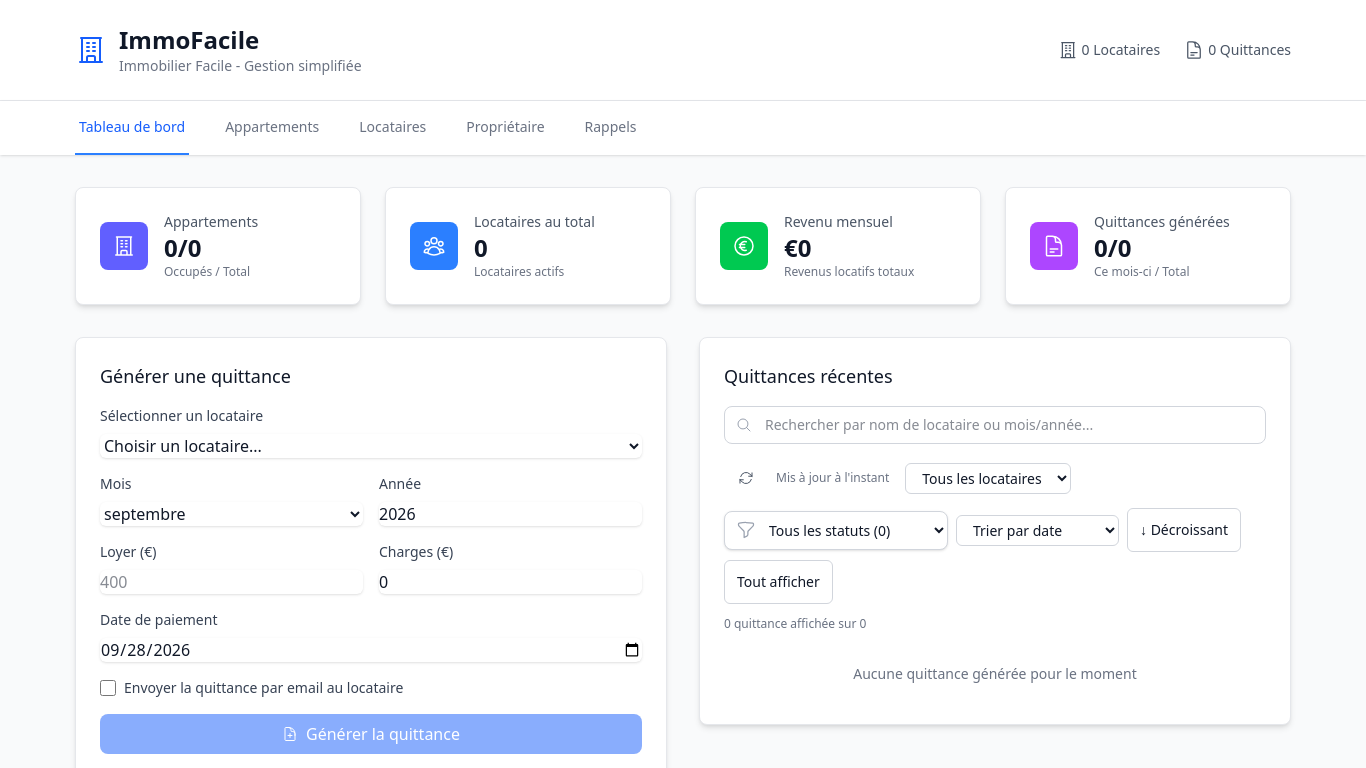
URL-routed tabs (#55) › updates the URL hash when a tab is selected
Click the link "Locataires" at coordinates (393, 126), box x1=359 y1=117 x2=426 y2=136
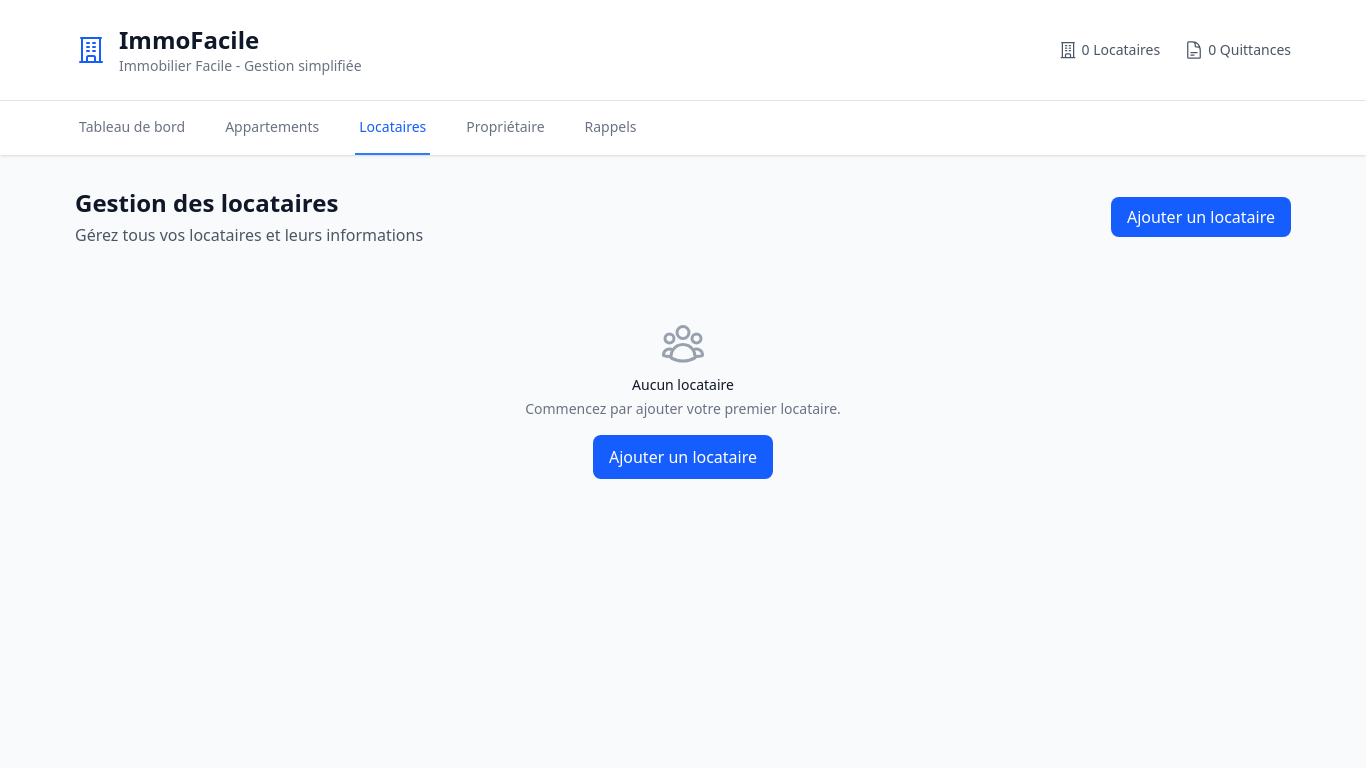
Now the heading "Gestion des locataires" is shown, box x1=75 y1=186 x2=338 y2=219
